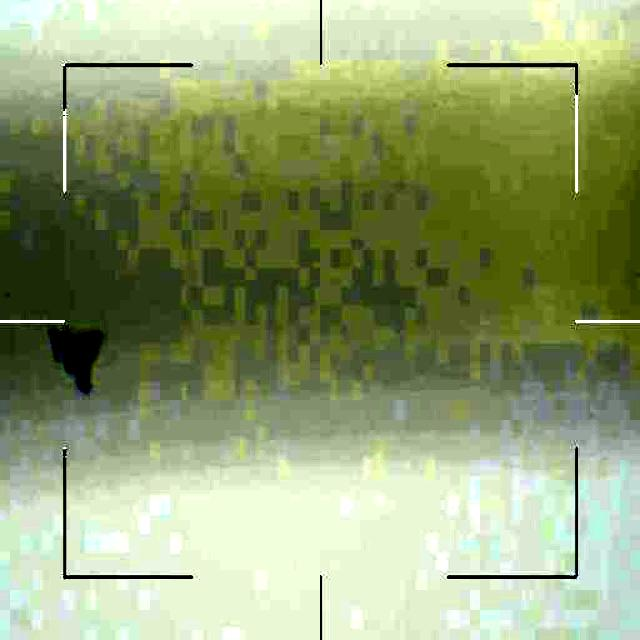bird: (56, 320, 121, 396)
